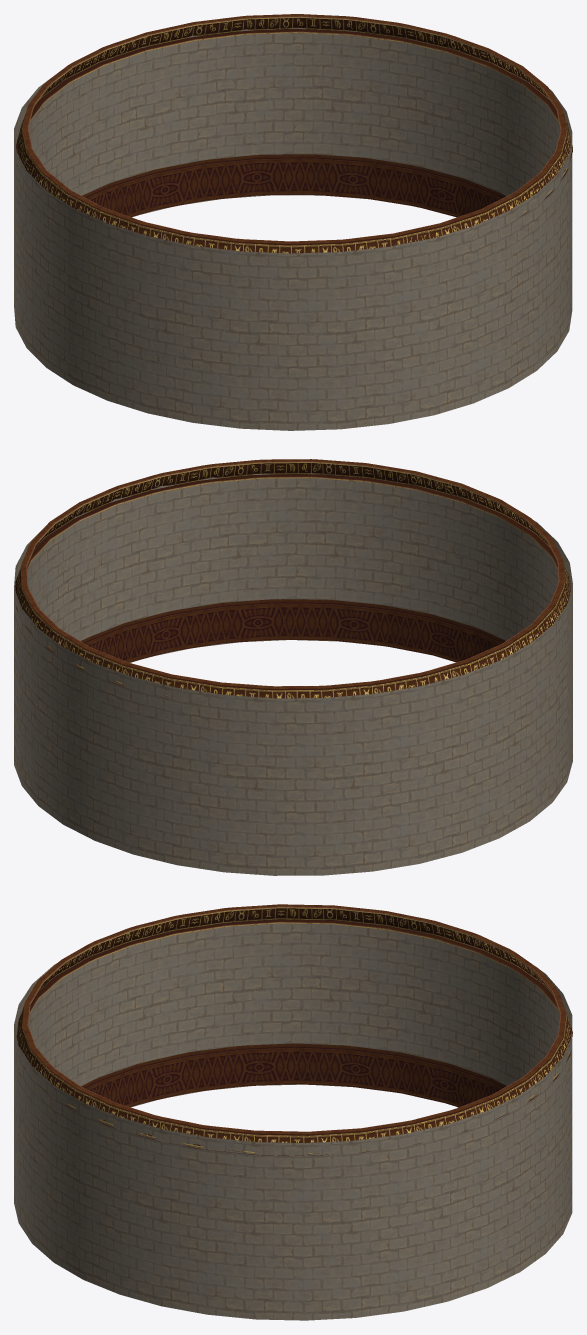
The model's file is ParedMontada.fbx.
3 views of the same model, one above another, from view 1: azimuth 30°, elevation 25°; view 2: azimuth 150°, elevation 25°; view 3: azimuth 270°, elevation 25° (orthographic).
Visible parts, largest first — view 1: Plane.001, Trim.Low(Arriba).001, Trim.Low(Abajo).002; view 2: Plane.001, Trim.Low(Arriba).001, Trim.Low(Abajo).002; view 3: Plane.001, Trim.Low(Arriba).001, Trim.Low(Abajo).002.
Part boxes in pixels (x1,y1,x2,y2): Plane.001: (14, 28, 572, 430); Trim.Low(Arriba).001: (16, 14, 572, 253); Trim.Low(Abajo).002: (82, 154, 506, 217); Plane.001: (14, 473, 572, 875); Trim.Low(Arriba).001: (15, 459, 570, 698); Trim.Low(Abajo).002: (81, 599, 505, 662); Plane.001: (14, 923, 572, 1320); Trim.Low(Arriba).001: (16, 904, 572, 1155); Trim.Low(Abajo).002: (81, 1043, 506, 1107).
Size of the model in its own units: 1142 by 415 by 1142.
